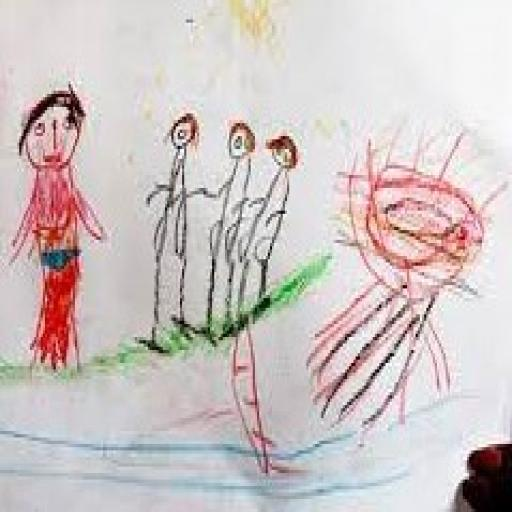person: (4, 75, 108, 388), (130, 107, 206, 363), (202, 108, 255, 360), (255, 123, 304, 323)
